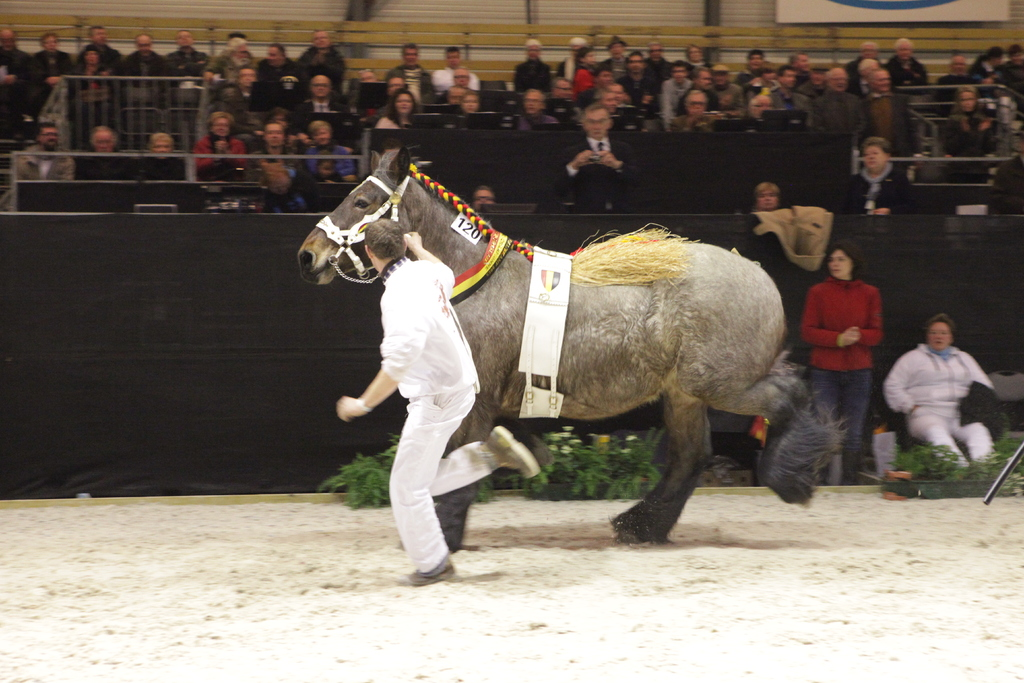horse: (297, 137, 851, 552)
